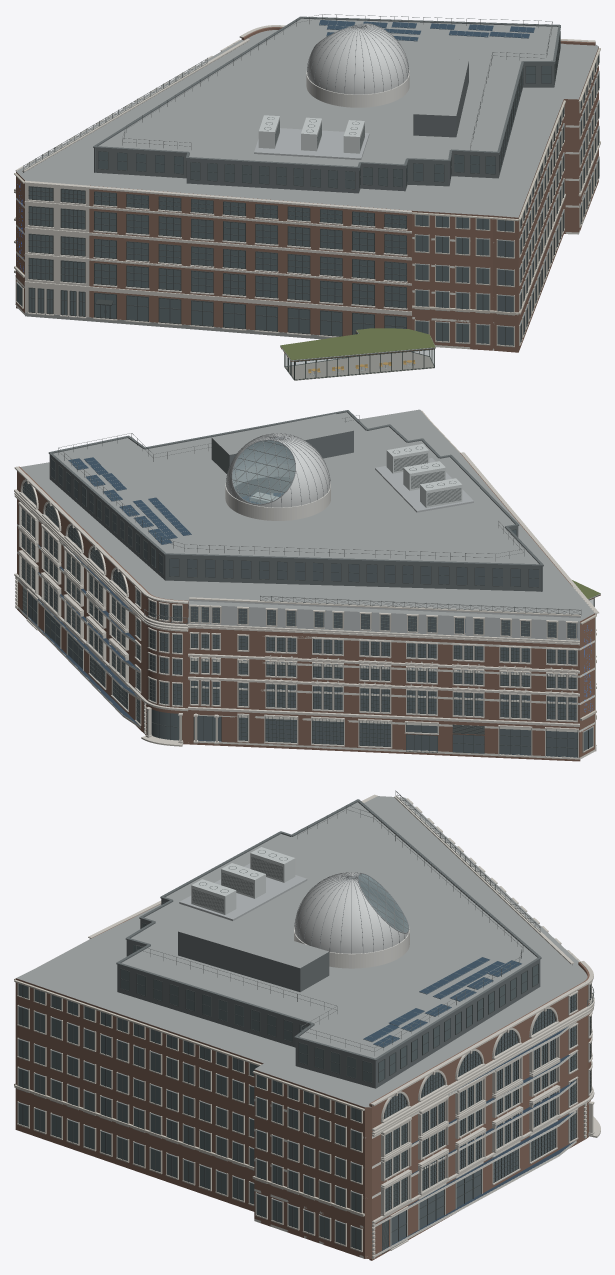
Rendered from lrb-exterior-233450f20e28.glb.
3 views of the same model, one above another, from view 1: azimuth 30°, elevation 25°; view 2: azimuth 150°, elevation 25°; view 3: azimuth 270°, elevation 25° (orthographic). The views are drawn at different scales.
Visible parts, largest first — view 1: LRB.001; view 2: LRB.001; view 3: LRB.001.
Part boxes in pixels (x1,y1,x2,y2): LRB.001: (14,14,600,380); LRB.001: (14,409,600,761); LRB.001: (14,790,600,1260).
Size of the model in its own units: 89.68 by 33.13 by 70.98.
